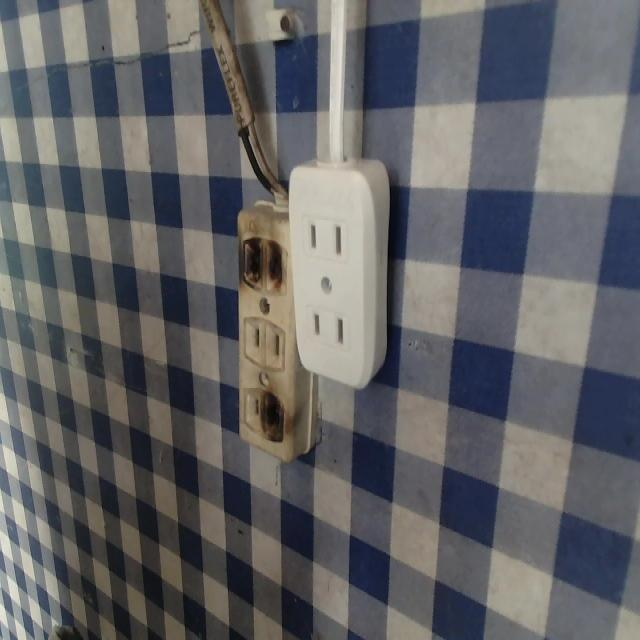-: (236, 232, 290, 295), (257, 388, 291, 451)
